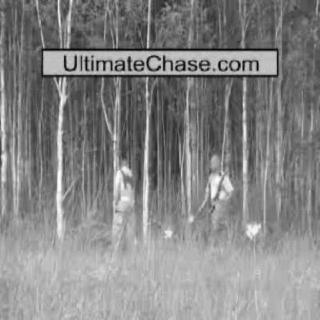Fire: (242, 216, 262, 242), (132, 231, 144, 250)
other: (118, 188, 130, 206)
